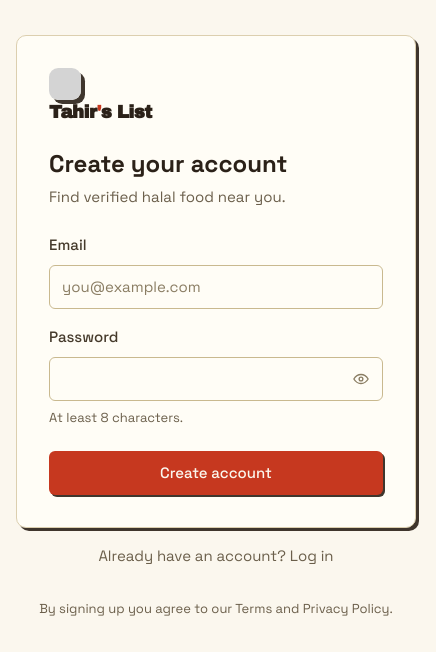
Test: SignUpPage — success + remaining error branches (#2) › shows the generic banner for a raw (non-ApiError) failure (sc-39)
The width and height of the screenshot is (436, 652).
Type "a@b.co" into the field labelled "Email" at (216, 286), box x1=49 y1=264 x2=383 y2=308
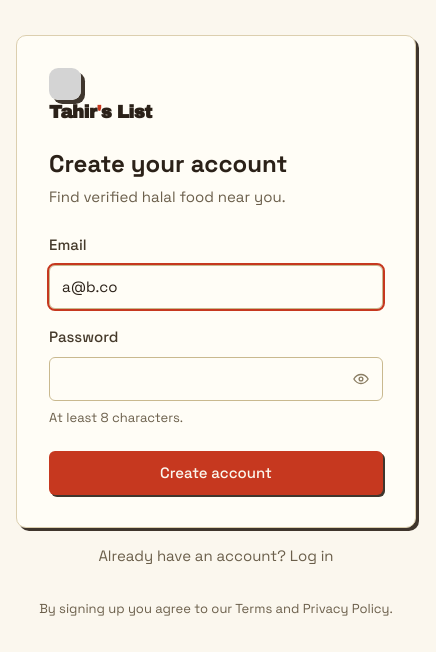
Type "password123" into the password field labelled "Password" at (216, 378), box x1=49 y1=356 x2=383 y2=400
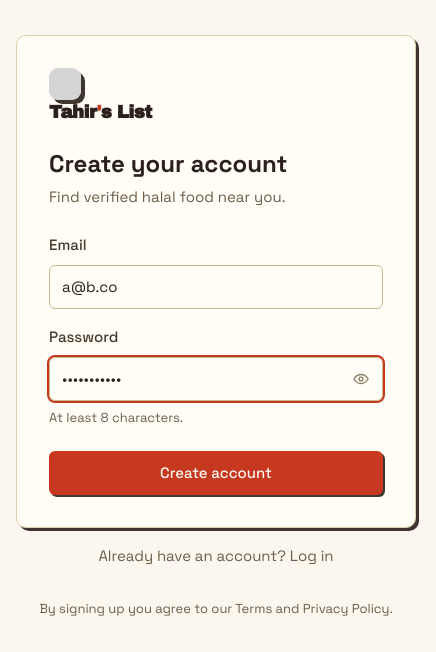
Click the button "Create account" at (216, 472), box x1=49 y1=450 x2=383 y2=494
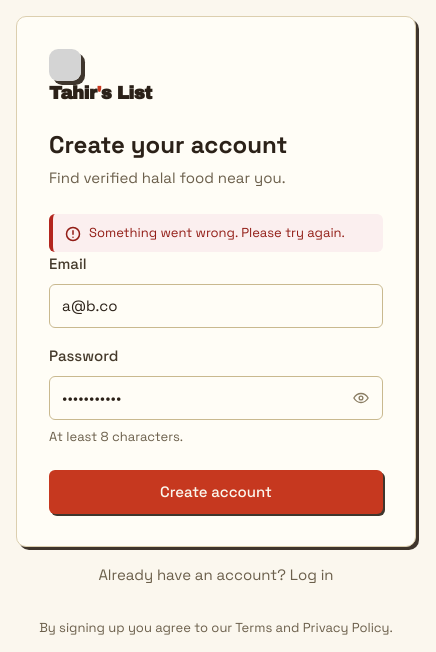
Result: the message reads "Something went wrong. Please try again." at x1=89 y1=224 x2=345 y2=240
